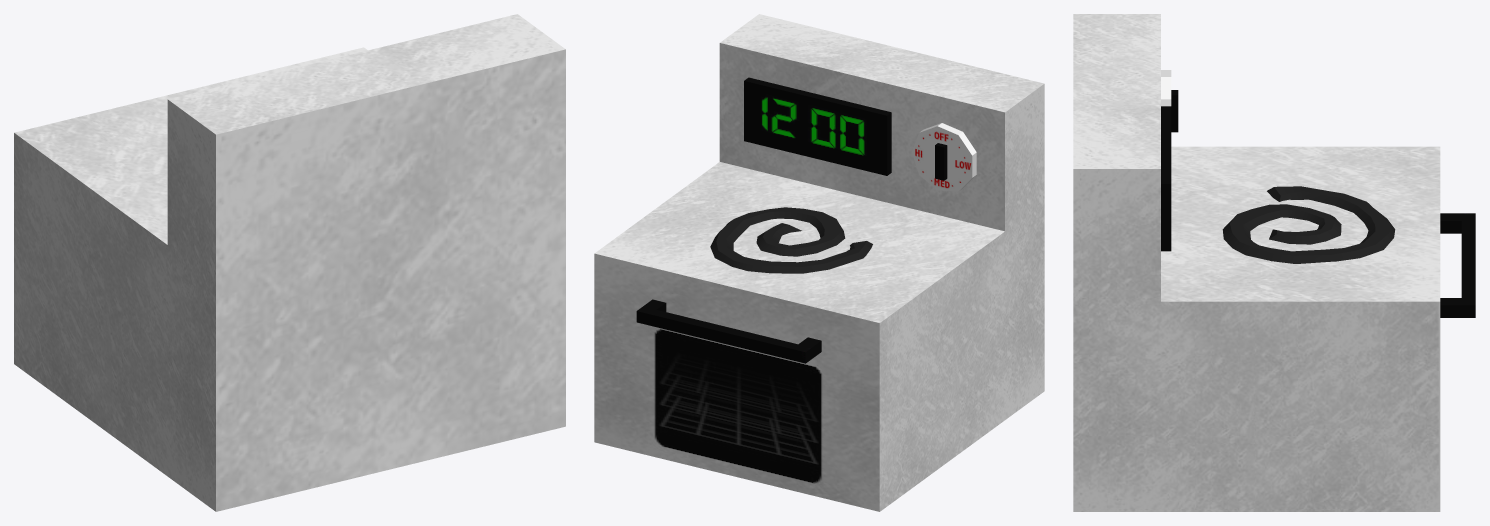
Rendered from UglyStove2.fbx.
3 renders of one model, left to right at view 1: azimuth 30°, elevation 25°; view 2: azimuth 150°, elevation 25°; view 3: azimuth 270°, elevation 25°, orthographic. The views are drawn at different scales.
Parts seen in each view (by area): view 1: SceneWithStuff3:pCube14; view 2: SceneWithStuff3:pCube14; view 3: SceneWithStuff3:pCube14.
Boxes of the visible parts, left/top/right/bottom form: SceneWithStuff3:pCube14: left=14, top=14, right=565, bottom=511; SceneWithStuff3:pCube14: left=594, top=14, right=1044, bottom=511; SceneWithStuff3:pCube14: left=1073, top=14, right=1475, bottom=511.
Size of the model in its own units: 1 by 1.03 by 1.1.
3 materials, 2 textured.
